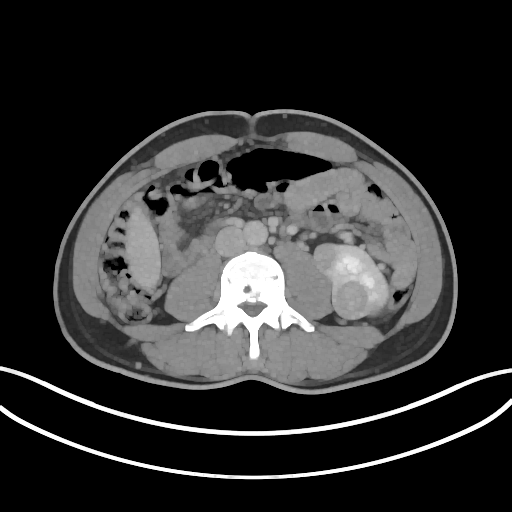Lesion: (313, 242, 343, 273)
